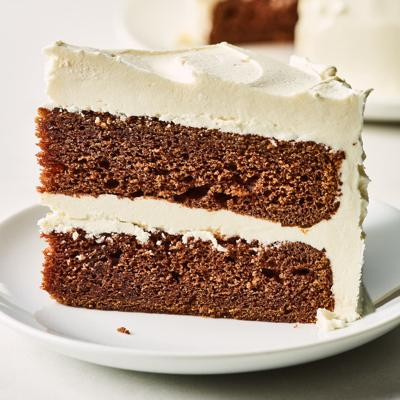cake: (31, 33, 366, 344)
